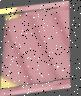scratch: (0, 5, 80, 93)
